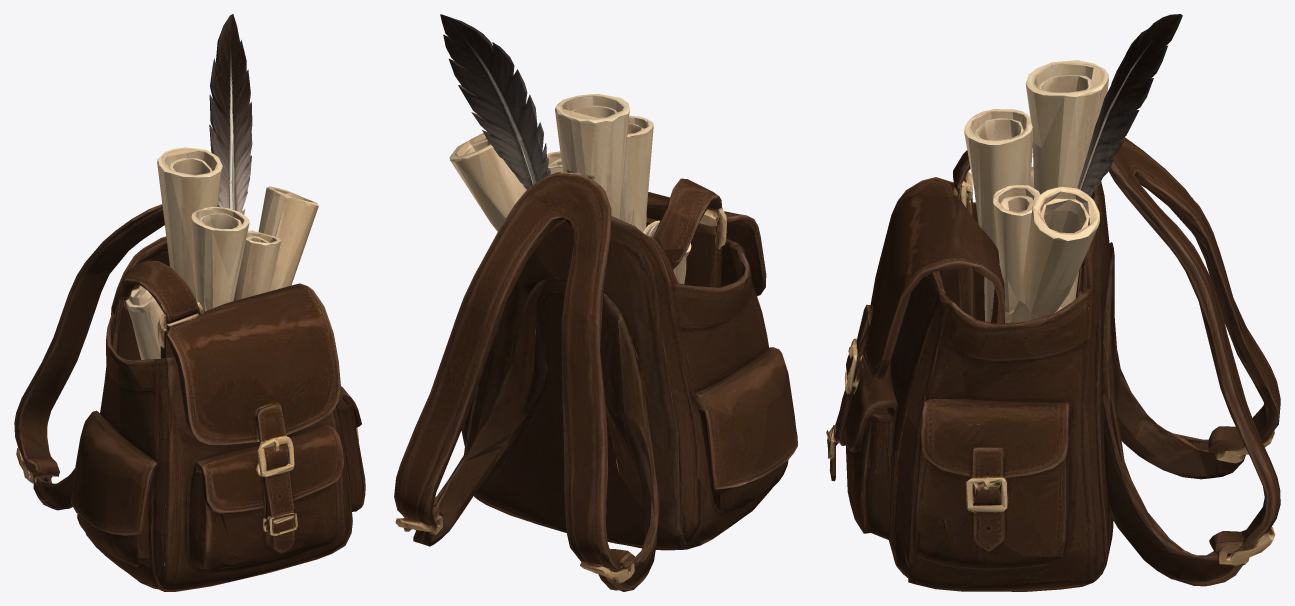
The model's file is satchel.glb.
3 renders of one model, left to right at view 1: azimuth 30°, elevation 25°; view 2: azimuth 150°, elevation 25°; view 3: azimuth 270°, elevation 25°, orthographic. The views are drawn at different scales.
Bounding box in the file's own units: 1.14 × 1.9 × 1.36.
1 material, 1 textured.
